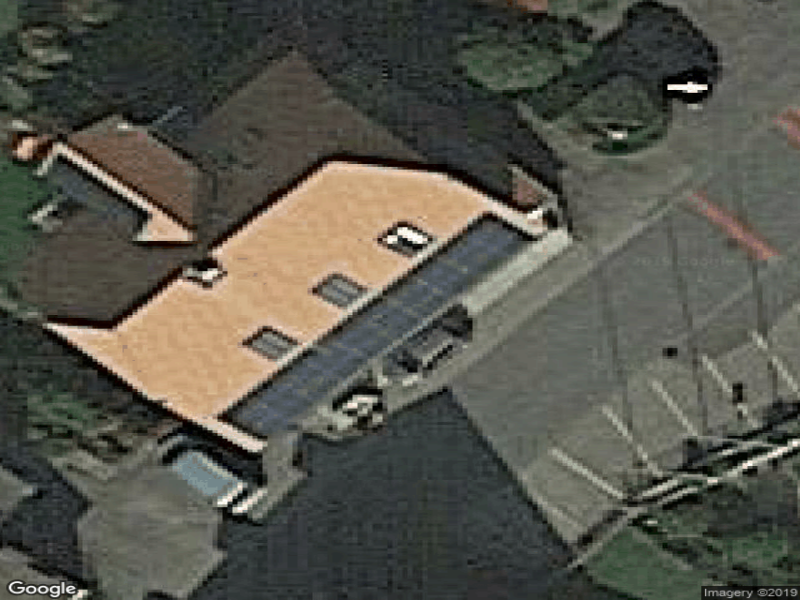pv: (217, 213, 535, 440)
